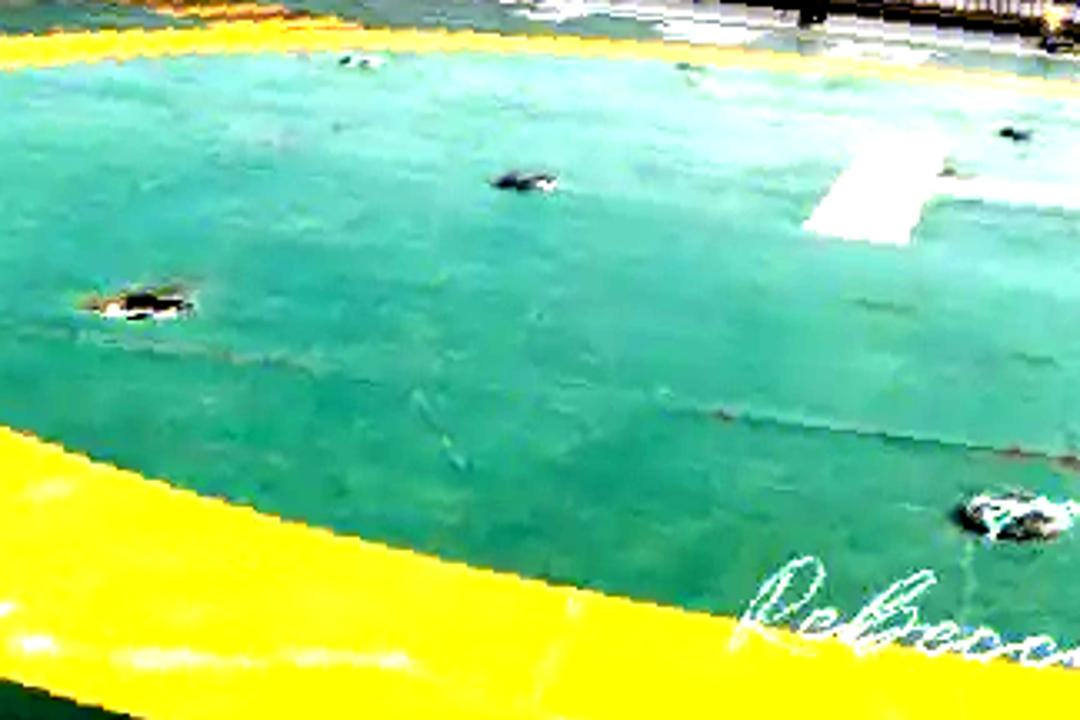Apron: (6, 14, 1080, 700)
